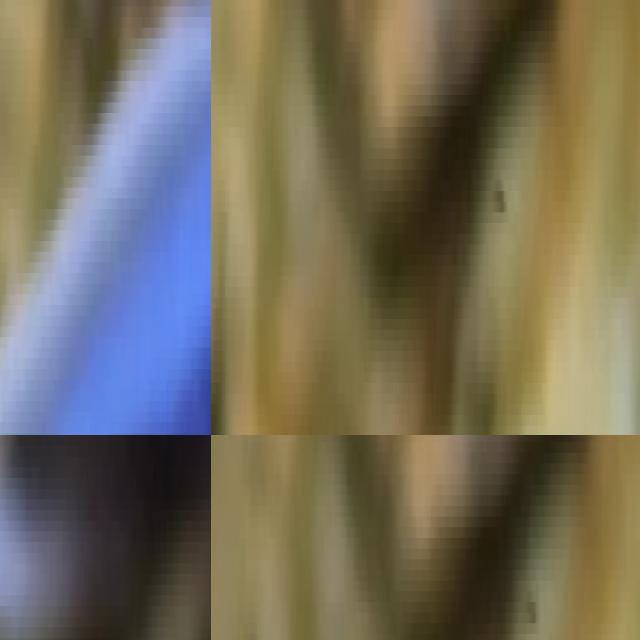fish: (0, 0, 211, 435), (0, 435, 211, 640)
